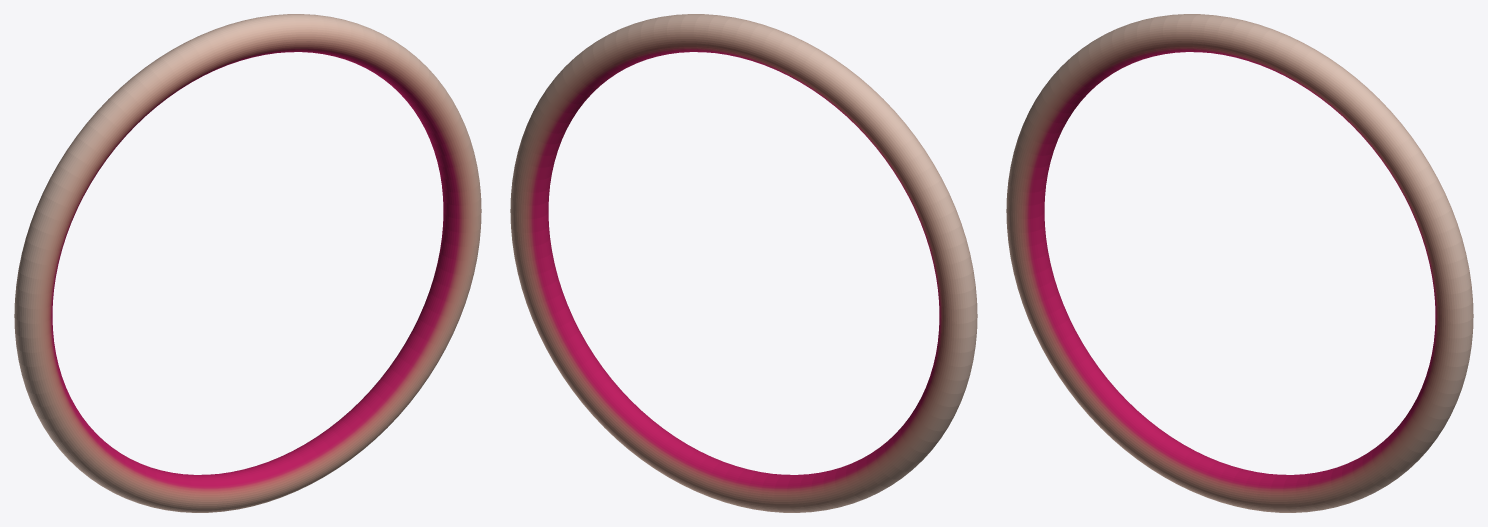
3 renders of one model, left to right at view 1: azimuth 30°, elevation 25°; view 2: azimuth 150°, elevation 25°; view 3: azimuth 330°, elevation 25°, orthographic.
Visible parts, largest first — view 1: world; view 2: world; view 3: world.
Part boxes in pixels (x1,y1,x2,y2): world: (14, 14, 481, 512); world: (510, 14, 977, 512); world: (1006, 14, 1473, 512).
Bounding box in the file's own units: 28 × 28 × 2.
